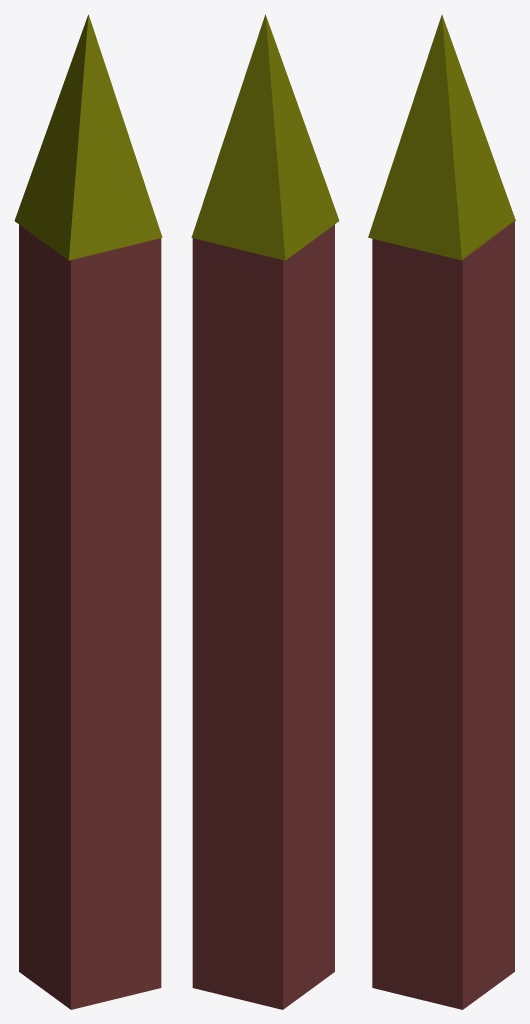
The model's file is tall_tower.obj.
3 renders of one model, left to right at view 1: azimuth 30°, elevation 25°; view 2: azimuth 150°, elevation 25°; view 3: azimuth 330°, elevation 25°, orthographic.
Visible parts, largest first — view 1: pCube3, pPyramid3; view 2: pCube3, pPyramid3; view 3: pCube3, pPyramid3.
Boxes of the visible parts, x1,y1,x2,y2 form: pCube3: (19,224,161,1009); pPyramid3: (14,14,162,260); pCube3: (192,224,334,1009); pPyramid3: (191,14,339,260); pCube3: (372,220,514,1009); pPyramid3: (368,14,515,260).
Size of the model in its own units: 0.3895 by 3.82 by 0.3895.
